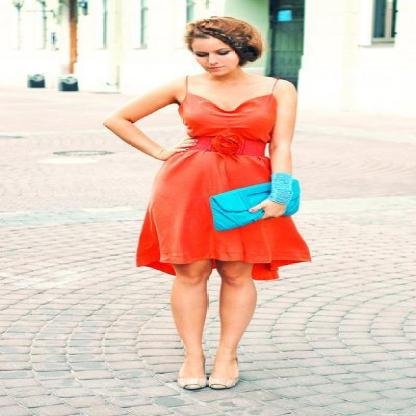bag: (210, 173, 300, 230)
dress: (136, 94, 310, 280)
shoe: (178, 366, 233, 388)
